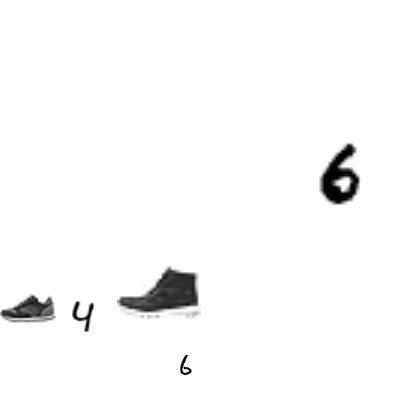4: (62, 294, 104, 336)
6: (296, 135, 380, 219), (170, 352, 198, 380)
Ankle_boot: (117, 249, 201, 333)
Sneaker: (0, 280, 56, 336)
